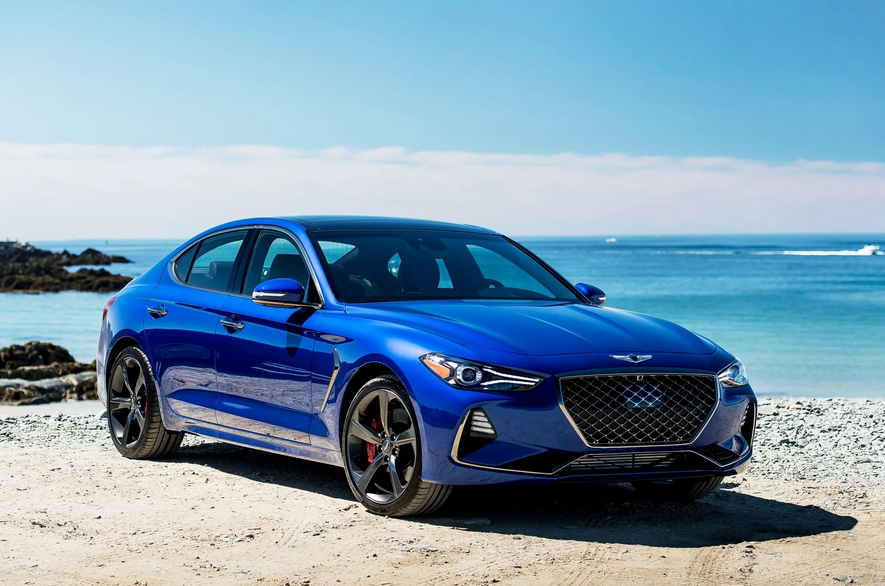car: (95, 213, 765, 531)
